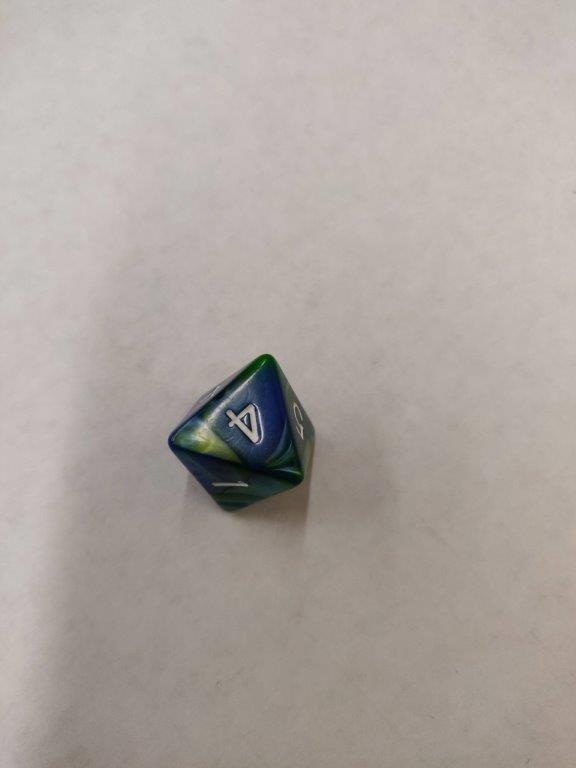d8-4: (164, 351, 316, 520)
